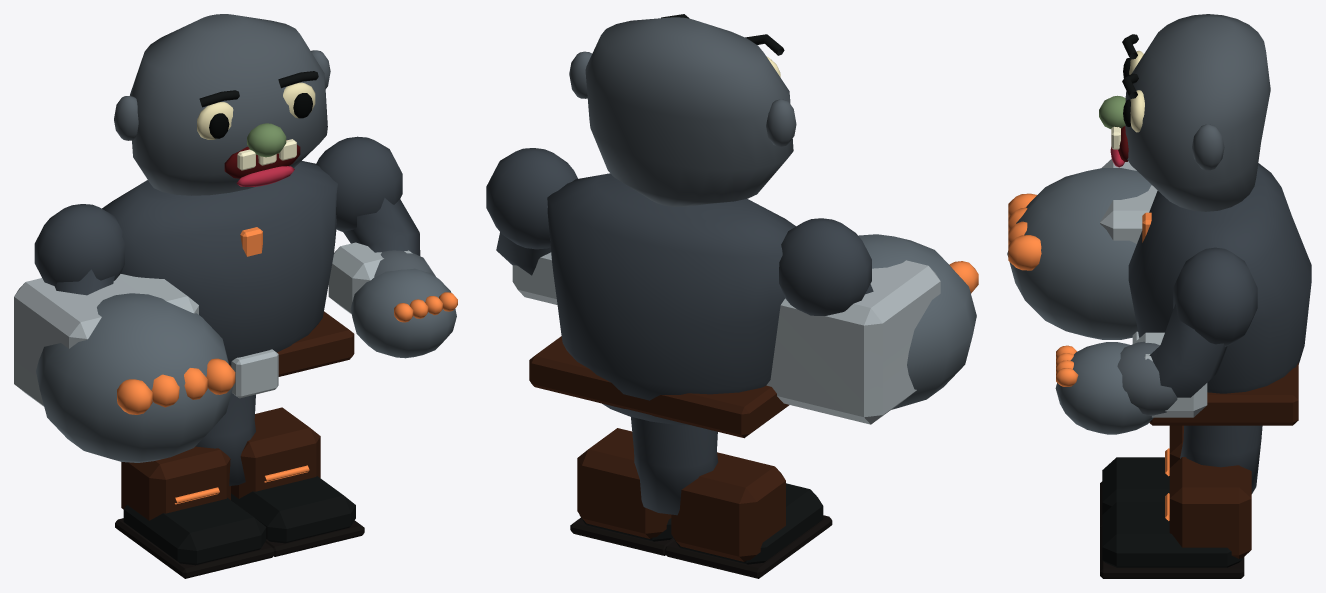
Rendered from bruiser.glb.
3 views of the same model, side by side, from view 1: azimuth 30°, elevation 25°; view 2: azimuth 150°, elevation 25°; view 3: azimuth 270°, elevation 25° (orthographic). The views are drawn at different scales.
Visible parts, largest first — view 1: Arms, Body, Head, LegL, LegR; view 2: Body, Arms, Head, LegL, LegR; view 3: Arms, Head, Body, LegR, LegL.
Boxes of the visible parts, box(x1,y1,x2,y2) form: Arms: box(14, 136, 457, 462); Body: box(102, 161, 354, 398); Head: box(114, 14, 330, 195); LegL: box(115, 393, 274, 578); LegR: box(196, 407, 364, 556); Body: box(529, 173, 795, 438); Arms: box(486, 148, 978, 424); Head: box(569, 14, 796, 206); LegL: box(631, 417, 832, 578); LegR: box(570, 428, 681, 555); Arms: box(1007, 159, 1257, 434); Head: box(1099, 14, 1270, 211); Body: box(1128, 163, 1311, 425); LegR: box(1100, 425, 1261, 578); LegL: box(1100, 425, 1262, 527).
Size of the model in its own units: 0.986 by 1.16 by 0.6325.
Materials: 1 (1 with a texture image).
